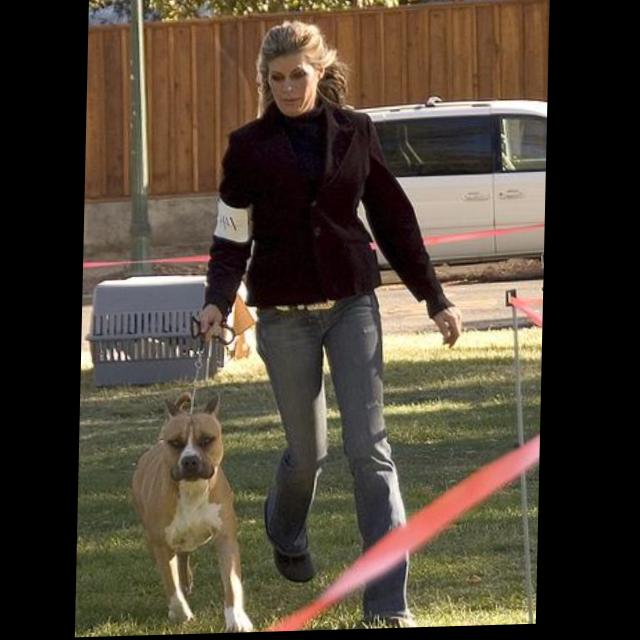amstaff: (132, 391, 264, 637)
face: (266, 47, 323, 119)
person: (196, 14, 474, 636)
